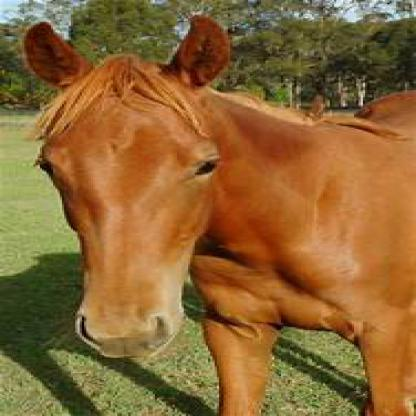horse: (24, 14, 414, 414)
